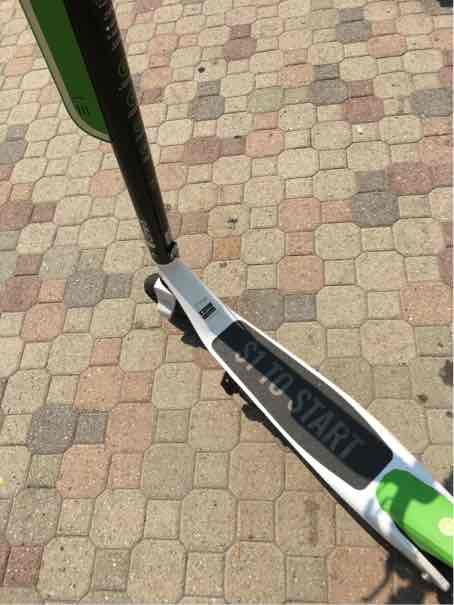scooter: (8, 13, 442, 605)
